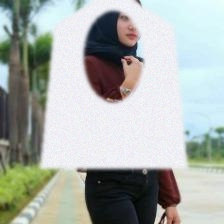Mukena: (39, 0, 188, 169)
